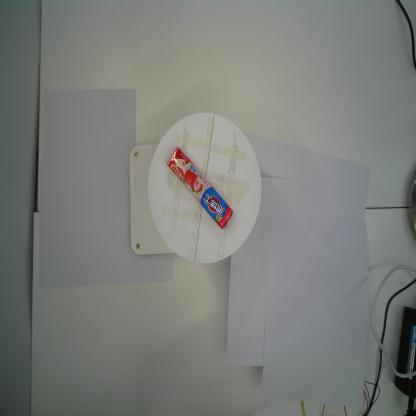Candy: (167, 147, 233, 230)
